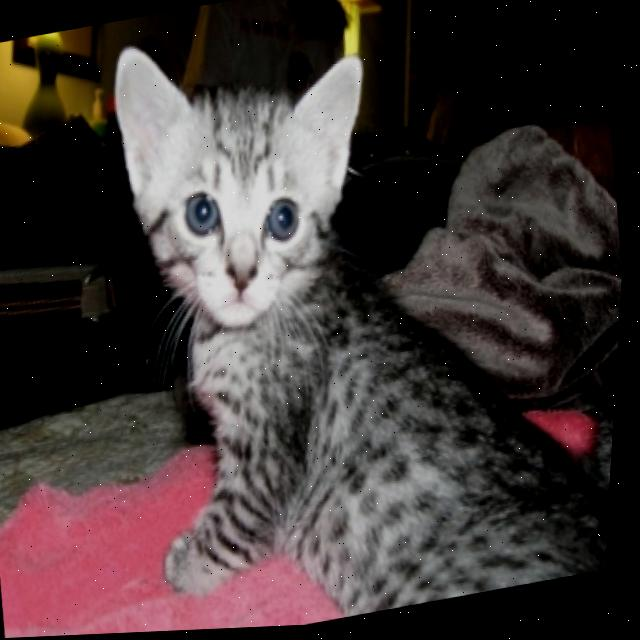Egyptian Mau: (78, 0, 640, 636)
